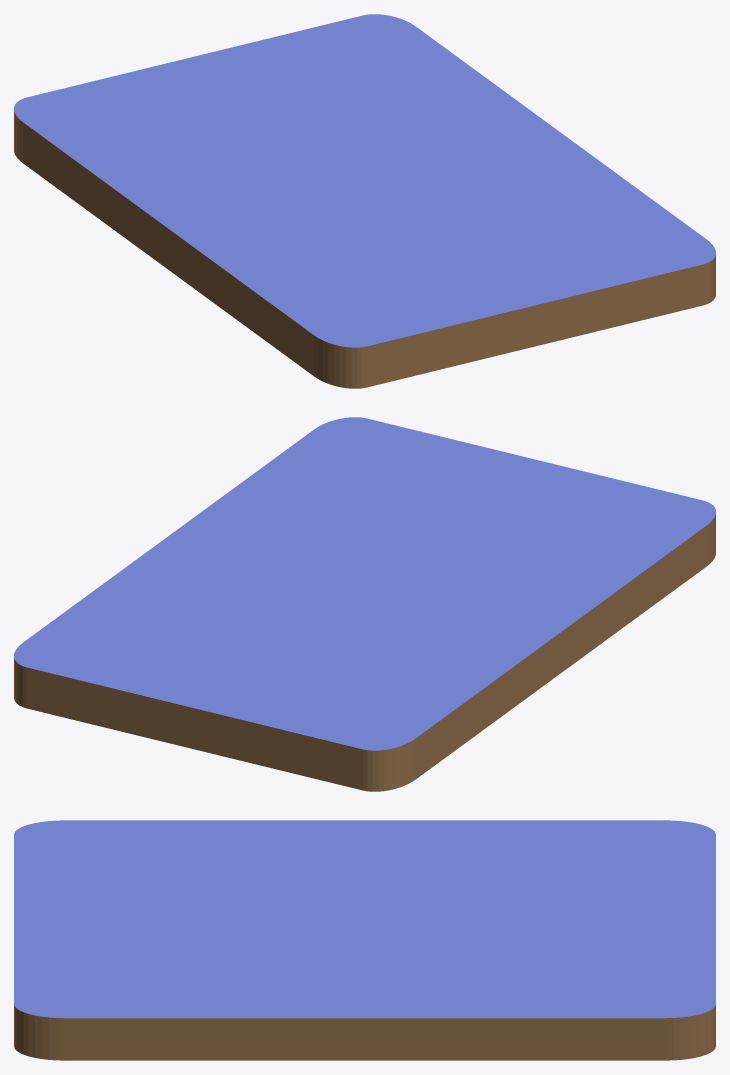
The model's file is board-rect-planed.glb.
3 renders of one model, top to bottom at view 1: azimuth 30°, elevation 25°; view 2: azimuth 150°, elevation 25°; view 3: azimuth 270°, elevation 25°, orthographic. The views are drawn at different scales.
Parts seen in each view (by area): view 1: Cube.001; view 2: Cube.001; view 3: Cube.001.
Part boxes in pixels (x1,y1,x2,y2): Cube.001: (14,14,715,388); Cube.001: (14,417,715,791); Cube.001: (14,820,715,1060).
Bounding box in the file's own units: 2 × 0.2 × 3.
